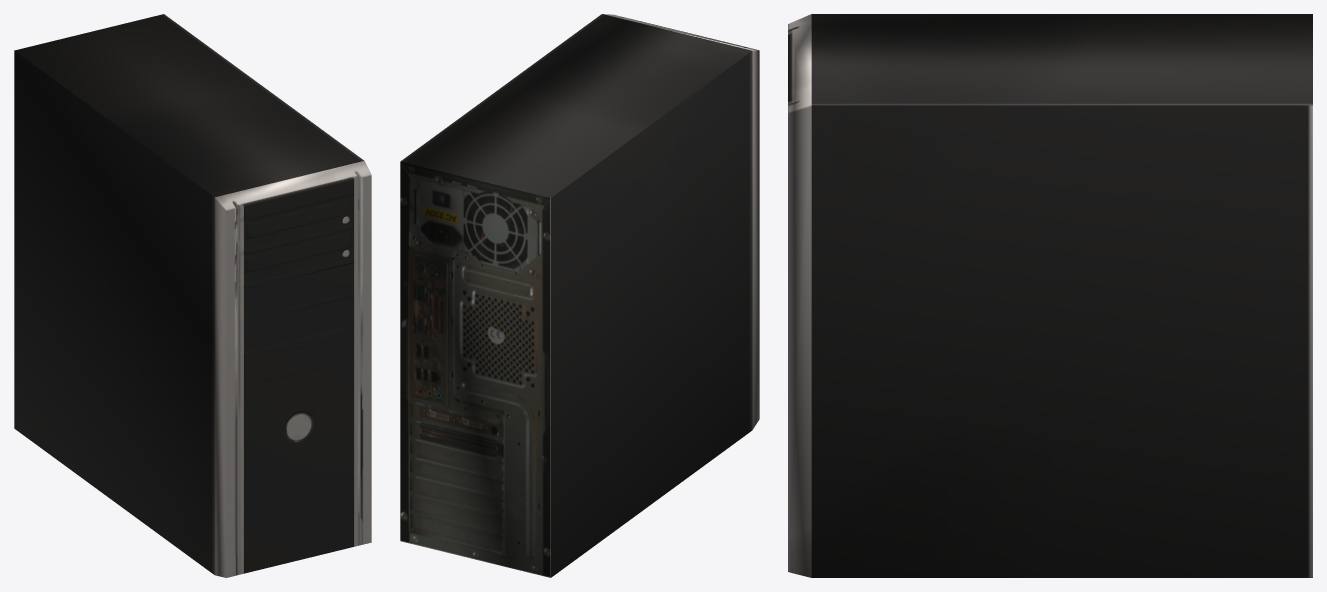
Rendered from computer.fbx.
3 views of the same model, side by side, from view 1: azimuth 30°, elevation 25°; view 2: azimuth 150°, elevation 25°; view 3: azimuth 270°, elevation 25° (orthographic). The views are drawn at different scales.
Visible parts, largest first — view 1: Mesh; view 2: Mesh; view 3: Mesh.
Part boxes in pixels (box(x1,y1,x2,y2)): Mesh: box(14, 14, 371, 577); Mesh: box(400, 14, 759, 577); Mesh: box(788, 14, 1312, 577).
Size of the model in its own units: 18.04 by 43.51 by 43.8.
